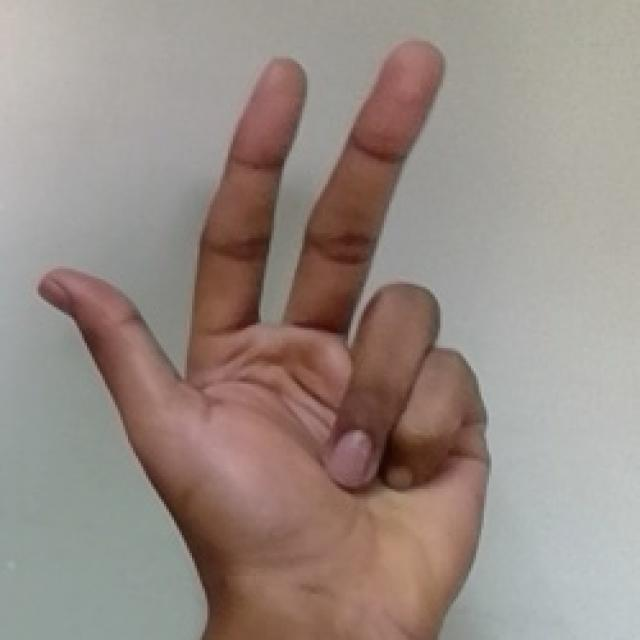Numeric-3: (36, 36, 494, 594)
